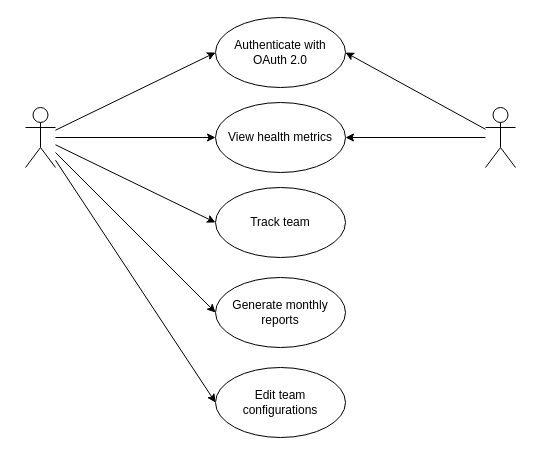
Image size: 556x455. Some labels were removed from this diagram. The centre of each missing label's shape, as x and y in pixels:
"Manager" goes at pixel 40 137.
"Team Member" goes at pixel 500 137.
